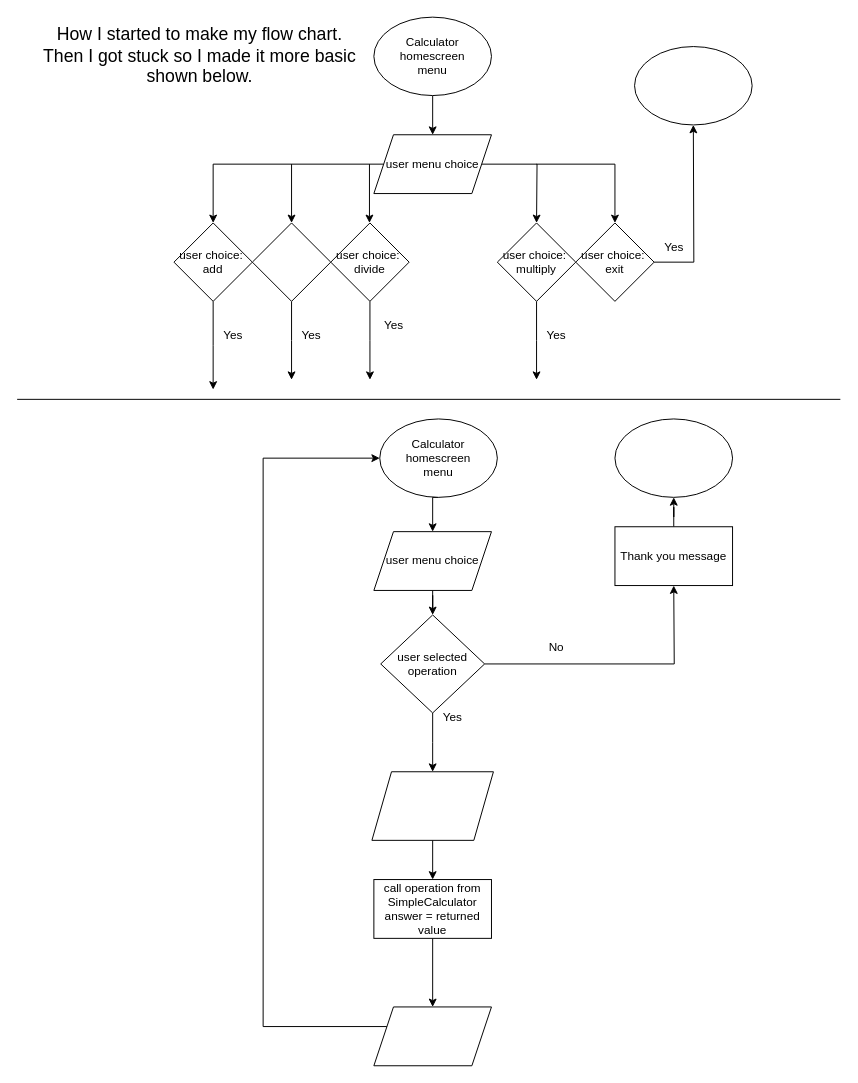
The diagram is 858 pixels wide and 1083 high, and some of its shapes have lost their labels. Each missing label, with the centre of its shape:
"end" goes at point 693,85.
"Exit" goes at point 673,457.
"input 2 operands num1 & num2 from user" goes at point 432,805.
"output answer" goes at point 432,1036.
"user choice: subtract" goes at point 291,261.
